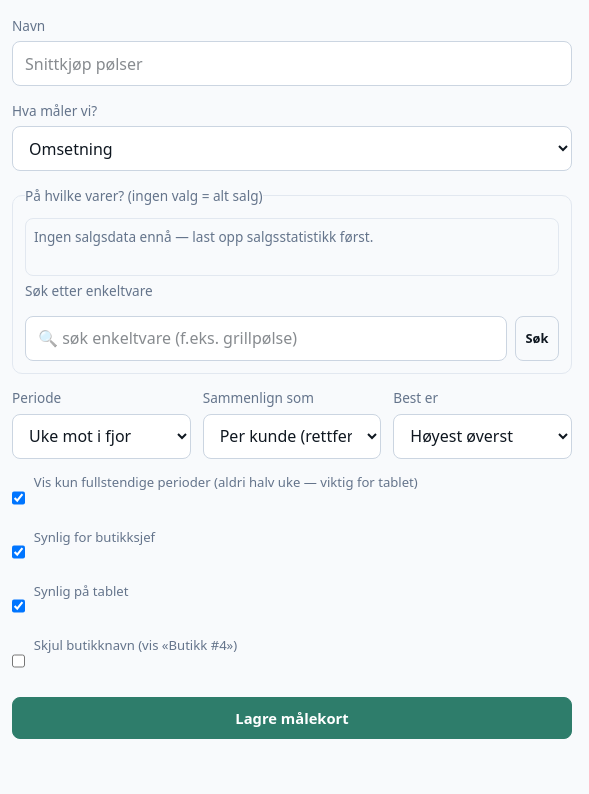
Test: målekortskjemaets bekreftelse › avvist transport beholder felt og åpner for nytt forsøk uten suksess
Type "Bakevarer" into the field named "navn". click: (292, 64)
box: [12, 41, 572, 86]
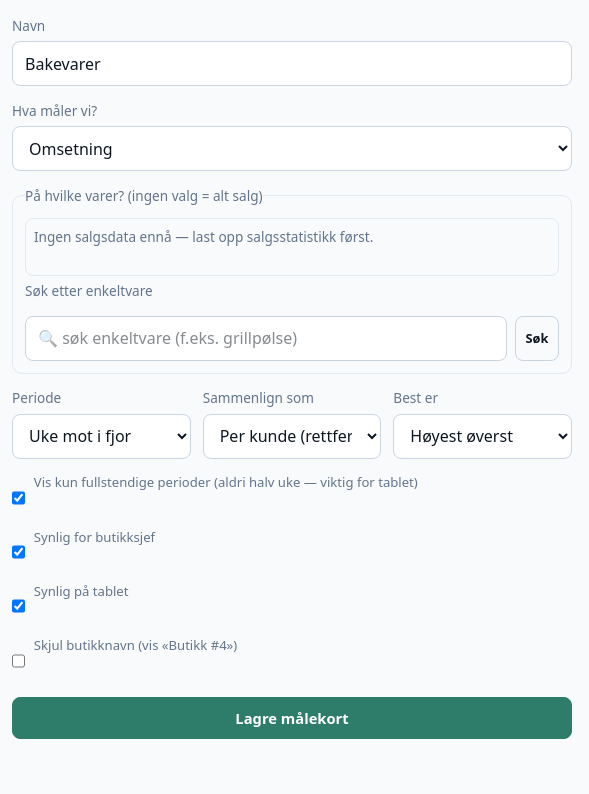
Submit the form
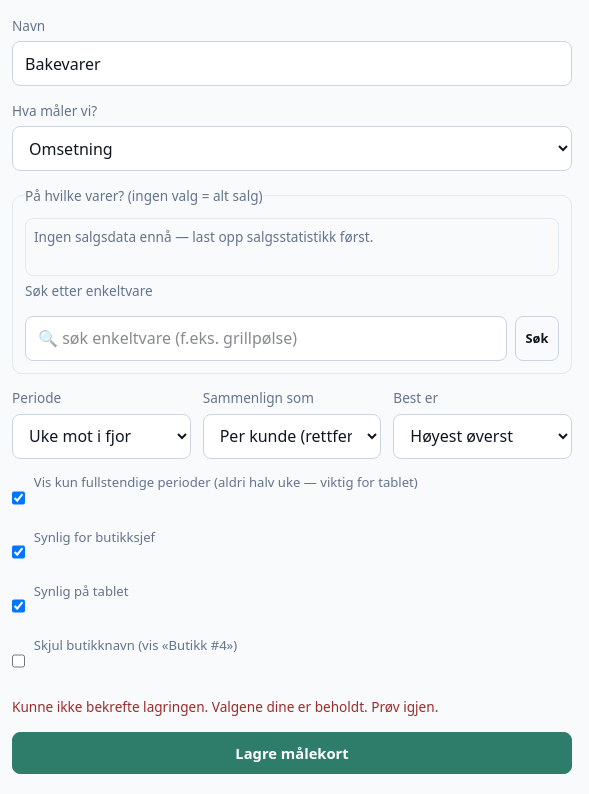
Expected: the text "Målekort lagret." is not shown
Expected: the message "Kunne ikke bekrefte lagringen. Valgene dine er beholdt. Prøv igjen." is shown, [12, 697, 438, 716]
Submit the form
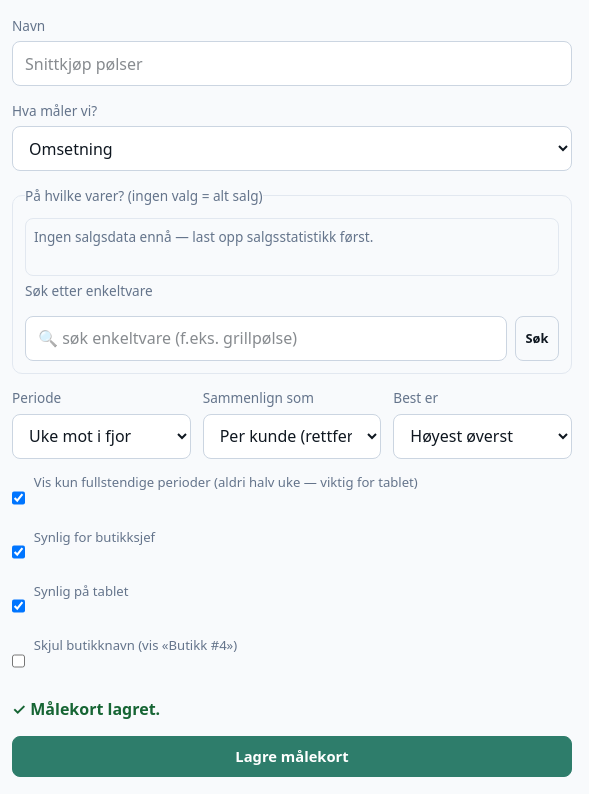
Expected: the message "✓ Målekort lagret." is shown, [12, 698, 160, 720]
Expected: the field named "navn" is empty, [12, 41, 572, 86]
